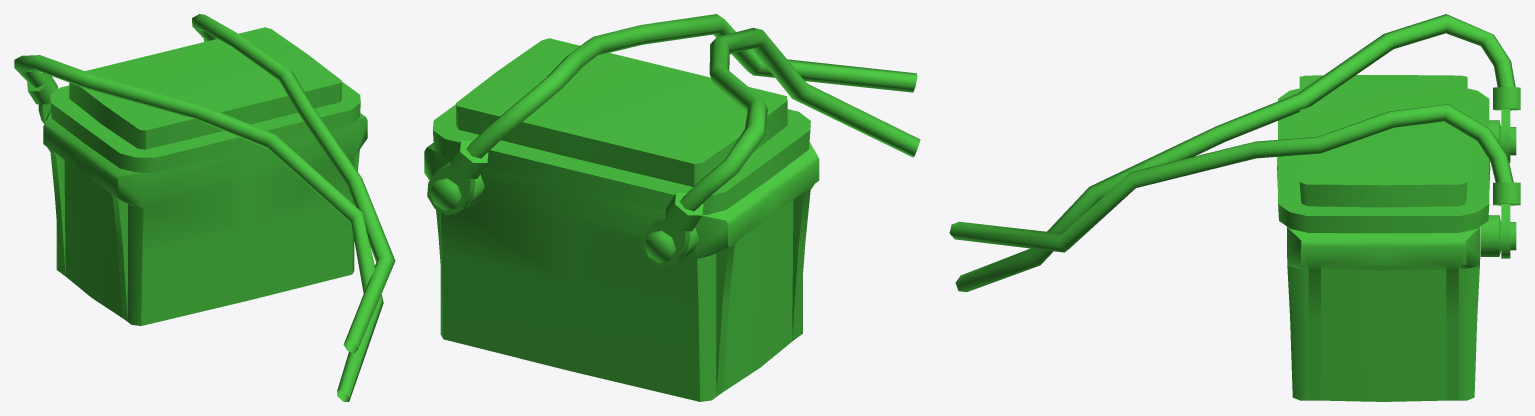
Rendered from PropBattery.FBX.
The picture shows the model from 3 angles, left to right: view 1: azimuth 30°, elevation 25°; view 2: azimuth 150°, elevation 25°; view 3: azimuth 270°, elevation 25°; orthographic projection. The views are drawn at different scales.
Visible parts, largest first — view 1: Battery; view 2: Battery; view 3: Battery.
Boxes of the visible parts, x1,y1,x2,y2 form: Battery: [14, 14, 395, 401]; Battery: [424, 14, 920, 401]; Battery: [949, 14, 1520, 401].
Size of the model in its own units: 52.68 by 42.35 by 87.33.
